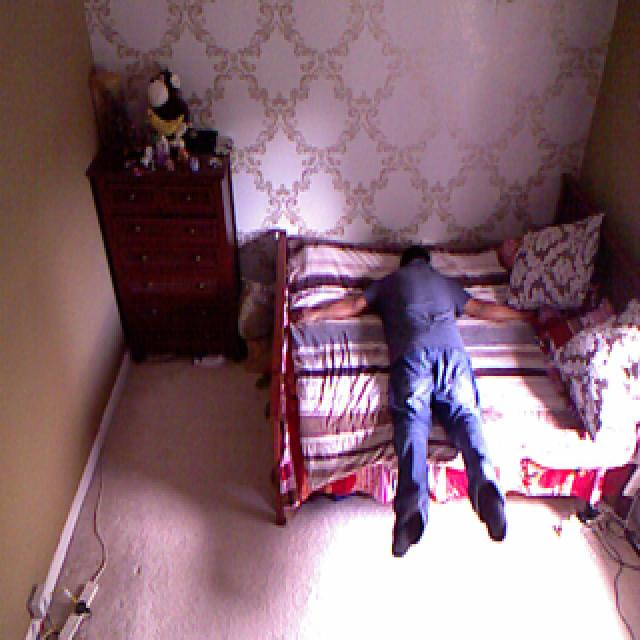lying: (287, 240, 555, 570)
